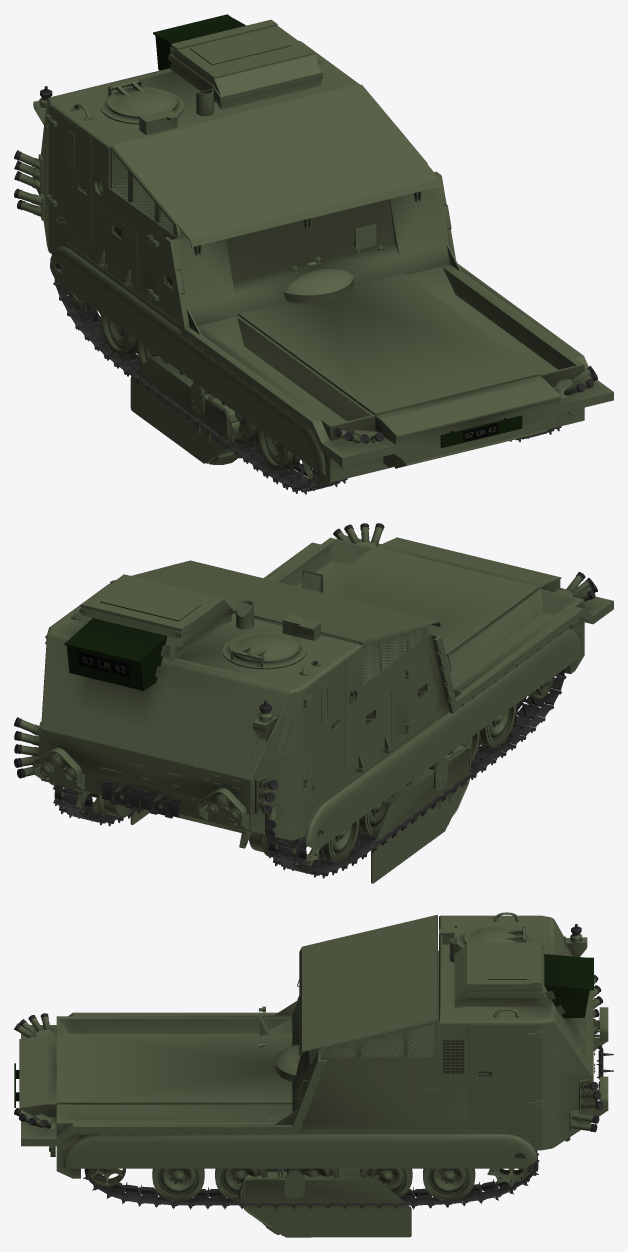
File: rapier.glb
3 views of the same model, one above another, from view 1: azimuth 30°, elevation 25°; view 2: azimuth 150°, elevation 25°; view 3: azimuth 270°, elevation 25° (orthographic). The views are drawn at different scales.
Visible parts, largest first — view 1: body|Base#camo, body|flat#camo, cradle|Base#camo, body|Tracks, turret|Base#camo, body|Front#camo, body|back#camo, body|rubber_cap; view 2: body|Base#camo, body|flat#camo, body|Tracks, cradle|Base#camo, body|Front#camo, body|glass, body|rubber_cap; view 3: body|Base#camo, body|flat#camo, cradle|Base#camo, body|Base.001#camo, body|Tracks, body|Front#camo, body|rubber_cap, turret|Base#camo, body|glass.
Boxes of the visible parts, left/top/right/bottom form: body|Base#camo: left=18, top=19, right=613, bottom=484; body|flat#camo: left=66, top=249, right=303, bottom=460; cradle|Base#camo: left=130, top=355, right=259, bottom=464; body|Tracks: left=53, top=264, right=561, bottom=494; turret|Base#camo: left=283, top=261, right=353, bottom=303; body|Front#camo: left=153, top=14, right=245, bottom=70; body|back#camo: left=440, top=415, right=522, bottom=447; body|rubber_cap: left=14, top=86, right=597, bottom=442; body|Base#camo: left=19, top=527, right=613, bottom=871; body|flat#camo: left=325, top=633, right=563, bottom=841; body|Tracks: left=53, top=669, right=566, bottom=878; cradle|Base#camo: left=130, top=745, right=471, bottom=883; body|Front#camo: left=64, top=618, right=167, bottom=690; body|glass: left=71, top=675, right=327, bottom=754; body|rubber_cap: left=14, top=523, right=597, bottom=839; body|Base#camo: left=17, top=912, right=608, bottom=1201; body|flat#camo: left=98, top=1134, right=504, bottom=1168; cradle|Base#camo: left=237, top=1168, right=411, bottom=1237; body|Base.001#camo: left=468, top=1024, right=536, bottom=1120; body|Tracks: left=83, top=1045, right=613, bottom=1209; body|Front#camo: left=544, top=954, right=593, bottom=1018; body|rubber_cap: left=14, top=924, right=603, bottom=1132; turret|Base#camo: left=275, top=1044, right=300, bottom=1083; body|glass: left=500, top=948, right=583, bottom=1067.
Bounding box in the file's own units: 2.85 × 2.83 × 6.32.
23 materials, 2 textured.
